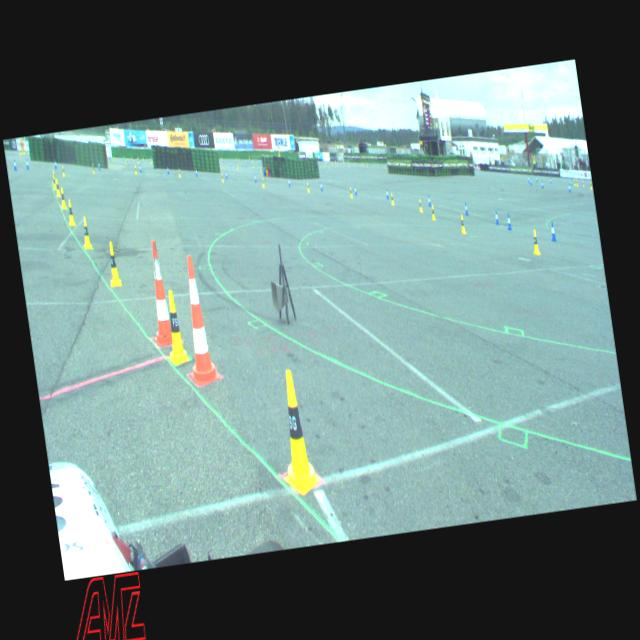blue_cone: (549, 220, 557, 242), (506, 213, 512, 230), (494, 210, 499, 225), (464, 202, 469, 215), (13, 158, 17, 170), (26, 158, 30, 170), (427, 196, 431, 207), (54, 160, 58, 169), (98, 161, 102, 170), (320, 182, 323, 192), (568, 184, 571, 193), (139, 164, 142, 172), (167, 166, 170, 174), (288, 178, 291, 186), (354, 185, 356, 195), (386, 189, 388, 199)
large_orange_cone: (174, 254, 220, 386), (142, 240, 174, 346)
yellow_cone: (270, 368, 322, 497), (160, 288, 190, 366), (105, 241, 122, 287), (80, 217, 92, 250), (66, 198, 76, 226), (531, 229, 541, 255), (59, 188, 67, 210), (459, 214, 466, 234), (54, 178, 61, 196), (430, 204, 436, 220), (390, 192, 395, 205), (52, 174, 56, 190), (418, 200, 423, 212), (52, 170, 56, 182), (62, 166, 66, 177), (349, 188, 353, 198), (134, 165, 138, 174), (307, 182, 310, 193), (92, 164, 95, 174), (178, 168, 181, 178), (221, 172, 224, 182), (262, 178, 265, 188), (590, 182, 593, 190), (576, 178, 579, 186)
